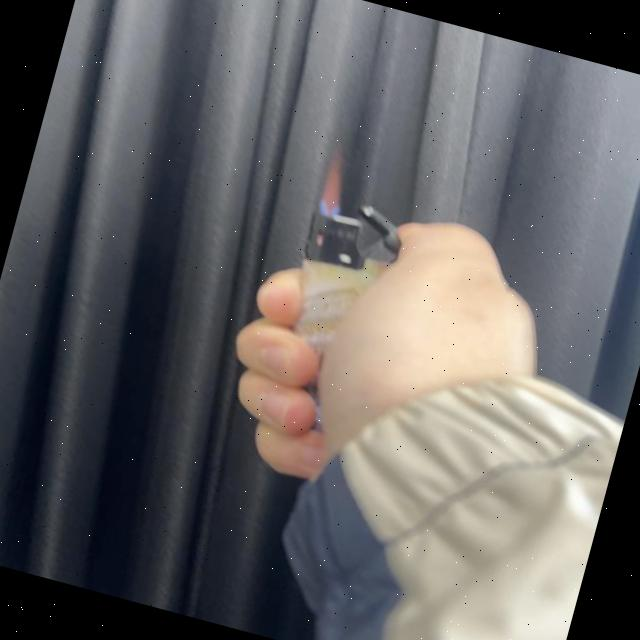fire: (312, 152, 353, 220)
